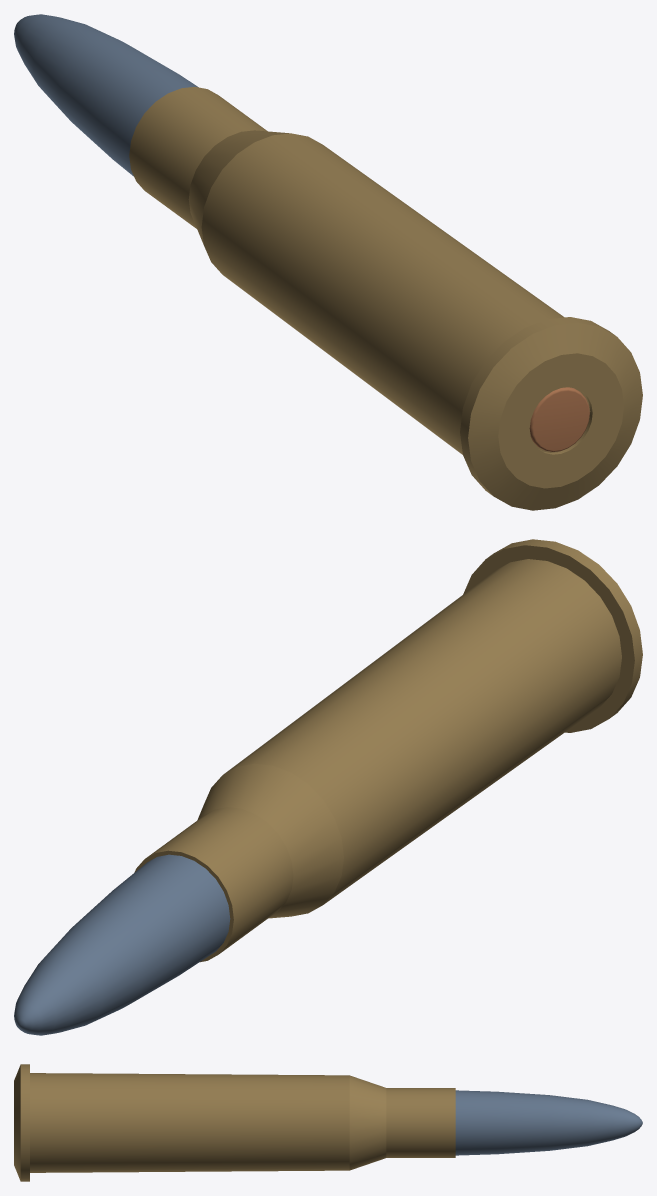
Rendered from RifleRound.fbx.
3 renders of one model, top to bottom at view 1: azimuth 30°, elevation 25°; view 2: azimuth 150°, elevation 25°; view 3: azimuth 270°, elevation 25°, orthographic. The views are drawn at different scales.
Parts seen in each view (by area): view 1: RifleRound; view 2: RifleRound; view 3: RifleRound.
Part boxes in pixels (x1,y1,x2,y2): RifleRound: (14,14,642,510); RifleRound: (14,539,642,1035); RifleRound: (14,1064,642,1181).
Size of the model in its own units: 1.44 by 1.44 by 7.69.
